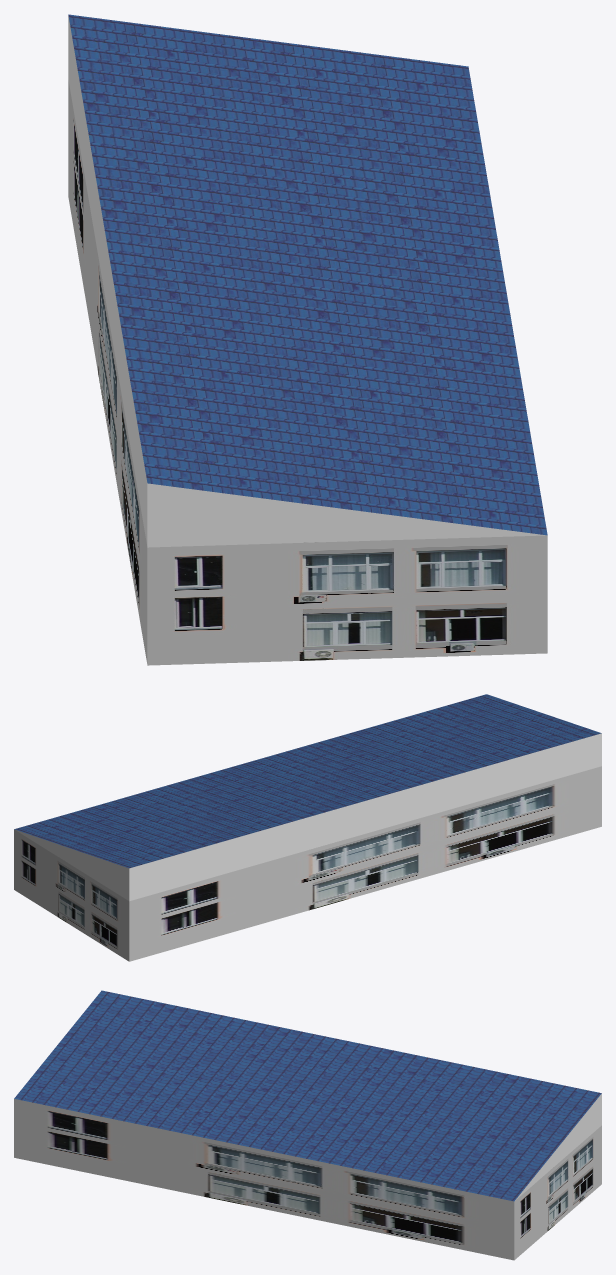
The picture shows the model from 3 angles, top to bottom: view 1: azimuth 30°, elevation 25°; view 2: azimuth 150°, elevation 25°; view 3: azimuth 270°, elevation 25°; orthographic projection. The views are drawn at different scales.
Parts seen in each view (by area): view 1: CityEngineMaterial_10_m, CityEngineMaterial_9_m, CityEngineMaterial_3_m; view 2: CityEngineMaterial_9_m, CityEngineMaterial_10_m, CityEngineMaterial_3_m; view 3: CityEngineMaterial_10_m, CityEngineMaterial_9_m, CityEngineMaterial_3_m.
Boxes of the visible parts, bbox=[...] form: CityEngineMaterial_10_m: bbox=[68, 14, 547, 535]; CityEngineMaterial_9_m: bbox=[68, 80, 547, 665]; CityEngineMaterial_3_m: bbox=[68, 16, 546, 547]; CityEngineMaterial_9_m: bbox=[14, 766, 601, 961]; CityEngineMaterial_10_m: bbox=[14, 694, 601, 868]; CityEngineMaterial_3_m: bbox=[15, 733, 601, 901]; CityEngineMaterial_10_m: bbox=[14, 990, 601, 1201]; CityEngineMaterial_9_m: bbox=[14, 1099, 601, 1260]; CityEngineMaterial_3_m: bbox=[515, 1093, 601, 1200].
Bounding box in the file's own units: 33.36 × 7.91 × 46.31.
